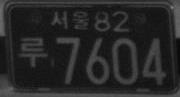0: (111, 36, 139, 86)
2: (111, 9, 130, 32)
4: (141, 36, 167, 86)
6: (85, 36, 110, 85)
7: (55, 36, 81, 84)
8: (93, 9, 111, 32)
루: (17, 36, 48, 68)
서울_O: (49, 10, 90, 31)
